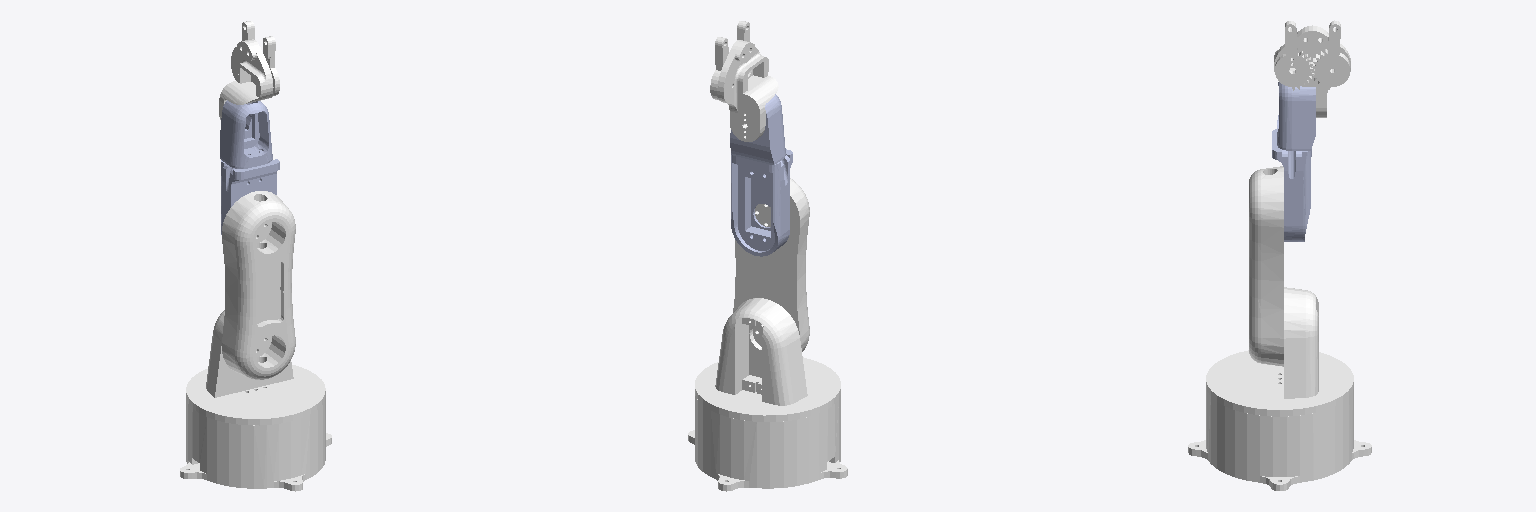
URDF robot description (robot):
<?xml version="1.0" ?>
<robot xmlns:xacro="http://www.ros.org/wiki/xacro">
  <link
    name="base_link">
    <inertial>
      <origin
        xyz="0.00088931 1.518E-10 0.022426"
        rpy="0 0 0" />
      <mass
        value="0.093992" />
      <inertia
        ixx="0.00011412"
        ixy="1.977E-13"
        ixz="-1.3528E-06"
        iyy="0.00012443"
        iyz="1.9115E-13"
        izz="0.00019777" />
    </inertial>
    <visual>
      <origin
        xyz="0 0 0"
        rpy="0 0 0" />
      <geometry>
        <mesh
          filename="package://robot_arm_v2/meshes/base_link.STL" />
      </geometry>
      <material
        name="">
        <color
          rgba="1 1 1 1" />
      </material>
    </visual>
    <collision>
      <origin
        xyz="0 0 0"
        rpy="0 0 0" />
      <geometry>
        <mesh
          filename="package://robot_arm_v2/meshes/base_link.STL" />
      </geometry>
    </collision>
  </link>
  <link
    name="rotating_waste_link">
    <inertial>
      <origin
        xyz="-1.0381E-07 0.0059328 0.019795"
        rpy="0 0 0" />
      <mass
        value="0.091516" />
      <inertia
        ixx="6.8276E-05"
        ixy="2.7832E-10"
        ixz="8.4031E-11"
        iyy="7.9726E-05"
        iyz="-7.69E-06"
        izz="7.1201E-05" />
    </inertial>
    <visual>
      <origin
        xyz="0 0 0"
        rpy="0 0 0" />
      <geometry>
        <mesh
          filename="package://robot_arm_v2/meshes/rotating_waste_link.STL" />
      </geometry>
      <material
        name="">
        <color
          rgba="1 1 1 1" />
      </material>
    </visual>
    <collision> 
      <origin
        xyz="0 0 0"
        rpy="0 0 0" />
      <geometry>
        <mesh
          filename="package://robot_arm_v2/meshes/rotating_waste_link.STL" />
      </geometry>
    </collision>
  </link>
  <joint
    name="base_rotating_waste_joint"
    type="revolute">
    <origin
      xyz="0 0 0.05"
      rpy="-0.057342 0 0" />
    <parent
      link="base_link" />
    <child
      link="rotating_waste_link" />
    <axis
      xyz="0 -0.057311 0.99836" />
    <limit
      lower="-1.57"
      upper="1.57"
      effort="300"
      velocity="2" />
  </joint>
  <link
    name="arm1_link">
    <inertial>
      <origin
        xyz="3.5455E-08 -0.012865 0.044336"
        rpy="0 0 0" />
      <mass
        value="0.11203" />
      <inertia
        ixx="0.00016765"
        ixy="-1.7353E-11"
        ixz="4.4303E-11"
        iyy="0.00018597"
        iyz="9.0288E-06"
        izz="2.9208E-05" />
    </inertial>
    <visual>
      <origin
        xyz="0 0 0"
        rpy="0 0 0" />
      <geometry>
        <mesh
          filename="package://robot_arm_v2/meshes/arm1_link.STL" />
      </geometry>
      <material
        name="">
        <color
          rgba="1 1 1 1" />
      </material>
    </visual>
    <collision>
      <origin
        xyz="0 0 0"
        rpy="0 0 0" />
      <geometry>
        <mesh
          filename="package://robot_arm_v2/meshes/arm1_link.STL" />
      </geometry>
    </collision>
  </link>
  <joint
    name="rotating_waste_arm1_joint"
    type="revolute">
    <origin
      xyz="0 0 0.043622"
      rpy="0 0 0" />
    <parent
      link="rotating_waste_link" />
    <child
      link="arm1_link" />
    <axis
      xyz="0 0.99836 0.057311" />
    <limit
      lower="-1.57"
      upper="1.57"
      effort="300"
      velocity="2" />
  </joint>
  <link
    name="arm2_link">
    <inertial>
      <origin
        xyz="-4.60037712575741E-05 0.00826415334333552 0.0405945014449565"
        rpy="0 0 0" />
      <mass
        value="0.0464167187510375" />
      <inertia
        ixx="4.92280477152446E-05"
        ixy="4.21050658614469E-09"
        ixz="5.3490315951923E-08"
        iyy="5.29975941677275E-05"
        iyz="-3.31095369900386E-06"
        izz="7.79953316722325E-06" />
    </inertial>
    <visual>
      <origin
        xyz="0 0 0"
        rpy="0 0 0" />
      <geometry>
        <mesh
          filename="package://robot_arm_v2/meshes/arm2_link.STL" />
      </geometry>
      <material
        name="">
        <color
          rgba="0.792156862745098 0.819607843137255 0.933333333333333 1" />
      </material>
    </visual>
    <collision>
      <origin
        xyz="0 0 0"
        rpy="0 0 0" />
      <geometry>
        <mesh
          filename="package://robot_arm_v2/meshes/arm2_link.STL" />
      </geometry>
    </collision>
  </link>
  <joint
    name="arm1_arm2_joint"
    type="revolute">
    <origin
      xyz="0 -0.005158 0.089852"
      rpy="0.057342 0 0" />
    <parent
      link="arm1_link" />
    <child
      link="arm2_link" />
    <axis
      xyz="0 1 0" />
    <limit
      lower="-2.35"
      upper="0.78"
      effort="300"
      velocity="2" />
  </joint>
  <link
    name="gripper_base_link">
    <inertial>
      <origin
        xyz="0.00479249239819878 -0.00160453360122901 0.0244850803418461"
        rpy="0 0 0" />
      <mass
        value="0.0158876288459029" />
      <inertia
        ixx="6.37287254002426E-06"
        ixy="1.02161652456056E-08"
        ixz="-8.47468223571324E-07"
        iyy="4.97630585300611E-06"
        iyz="5.57046624597371E-07"
        izz="2.63590863065603E-06" />
    </inertial>
    <visual>
      <origin
        xyz="0 0 0"
        rpy="0 0 0" />
      <geometry>
        <mesh
          filename="package://robot_arm_v2/meshes/gripper_base_link.STL" />
      </geometry>
      <material
        name="">
        <color
          rgba="1 1 1 1" />
      </material>
    </visual>
    <collision>
      <origin
        xyz="0 0 0"
        rpy="0 0 0" />
      <geometry>
        <mesh
          filename="package://robot_arm_v2/meshes/gripper_base_link.STL" />
      </geometry>
    </collision>
  </link>
  <joint
    name="arm2_gripper_base_joint"
    type="revolute">
    <origin
      xyz="-8.582E-05 0.022 0.07865"
      rpy="0 0 0" />
    <parent
      link="arm2_link" />
    <child
      link="gripper_base_link" />
    <axis
      xyz="0 -1 0" />
    <limit
      lower="-1.57"
      upper="1.57"
      effort="300"
      velocity="2" />
  </joint>
  <link
    name="gripper_left_link">
    <inertial>
      <origin
        xyz="0.0037437 0.00019144 0.0072728"
        rpy="0 0 0" />
      <mass
        value="0.002881" />
      <inertia
        ixx="5.5224E-07"
        ixy="-1.063E-09"
        ixz="1.3325E-08"
        iyy="4.6635E-07"
        iyz="3.0497E-08"
        izz="9.7137E-08" />
    </inertial>
    <visual>
      <origin
        xyz="0 0 0"
        rpy="0 0 0" />
      <geometry>
        <mesh
          filename="package://robot_arm_v2/meshes/gripper_left_link.STL" />
      </geometry>
      <material
        name="">
        <color
          rgba="1 1 1 1" />
      </material>
    </visual>
    <collision>
      <origin
        xyz="0 0 0"
        rpy="0 0 0" />
      <geometry>
        <mesh
          filename="package://robot_arm_v2/meshes/gripper_left_link.STL" />
      </geometry>
    </collision>
  </link>
  <joint
    name="gripper_base_left_joint"
    type="revolute">
    <origin
      xyz="0.012135 -0.01595 0.0302"
      rpy="0 0 0" />
    <parent
      link="gripper_base_link" />
    <child
      link="gripper_left_link" />
    <axis
      xyz="-1 0 0" />
    <limit
      lower="-1.57"
      upper="1.57"
      effort="300"
      velocity="2" />
  </joint>
  <link
    name="gripper_right_link">
    <inertial>
      <origin
        xyz="0.003 -0.00028643 0.0056038"
        rpy="0 0 0" />
      <mass
        value="0.0040417" />
      <inertia
        ixx="6.8428E-07"
        ixy="5.5718E-23"
        ixz="-2.528E-22"
        iyy="5.6109E-07"
        iyz="-3.7692E-08"
        izz="1.4744E-07" />
    </inertial>
    <visual>
      <origin
        xyz="0 0 0"
        rpy="0 0 0" />
      <geometry>
        <mesh
          filename="package://robot_arm_v2/meshes/gripper_right_link.STL" />
      </geometry>
      <material
        name="">
        <color
          rgba="1 1 1 1" />
      </material>
    </visual>
    <collision>
      <origin
        xyz="0 0 0"
        rpy="0 0 0" />
      <geometry>
        <mesh
          filename="package://robot_arm_v2/meshes/gripper_right_link.STL" />
      </geometry>
    </collision>
  </link>
  <joint
    name="gripper_base_right_joint"
    type="revolute">
    <origin
      xyz="0.012135 0.01095 0.0302"
      rpy="0 0 0" />
    <parent
      link="gripper_base_link" />
    <child
      link="gripper_right_link" />
    <axis
      xyz="1 0 0" />
    <limit
      lower="-1.57"
      upper="1.57"
      effort="300"
      velocity="2" />
    <mimic
      joint="gripper_base_left_joint"
      multiplier="1"
      offset="0" />
  </joint>
</robot>

--- What the picture shows (computed from the rendered views, not written in the file) ---
Views: 3 orthographic renders of the robot side by side, from view 1: azimuth 30°, elevation 25°; view 2: azimuth 150°, elevation 25°; view 3: azimuth 270°, elevation 25°.
Model robot with 7 links and 6 joints (6 revolute), rooted at base_link, posed all joints at 0.
Links seen in each view (by area): view 1: arm1_link, base_link, rotating_waste_link, arm2_link, gripper_base_link; view 2: rotating_waste_link, base_link, arm2_link, arm1_link, gripper_base_link, gripper_right_link; view 3: base_link, rotating_waste_link, arm1_link, arm2_link, gripper_right_link, gripper_base_link, gripper_left_link.
Boxes of the visible links, x1,y1,x2,y2 form: arm1_link: (222,191,295,379); base_link: (180,398,331,491); rotating_waste_link: (186,310,325,425); arm2_link: (220,100,279,234); gripper_base_link: (219,39,273,119); rotating_waste_link: (695,298,840,421); base_link: (688,395,847,491); arm2_link: (730,94,792,256); arm1_link: (733,178,809,351); gripper_base_link: (717,40,778,141); gripper_right_link: (710,37,728,100); base_link: (1188,389,1371,490); rotating_waste_link: (1206,287,1353,416); arm1_link: (1249,166,1283,366); arm2_link: (1272,82,1315,241); gripper_right_link: (1311,20,1350,89); gripper_base_link: (1274,25,1350,117); gripper_left_link: (1275,21,1313,90).
Bounding box of the posed robot: 0.124 × 0.124 × 0.3271 m (x, y, z).
Meshes: 7 distinct files referenced, 7 mesh visuals loaded (7 binary STL).
